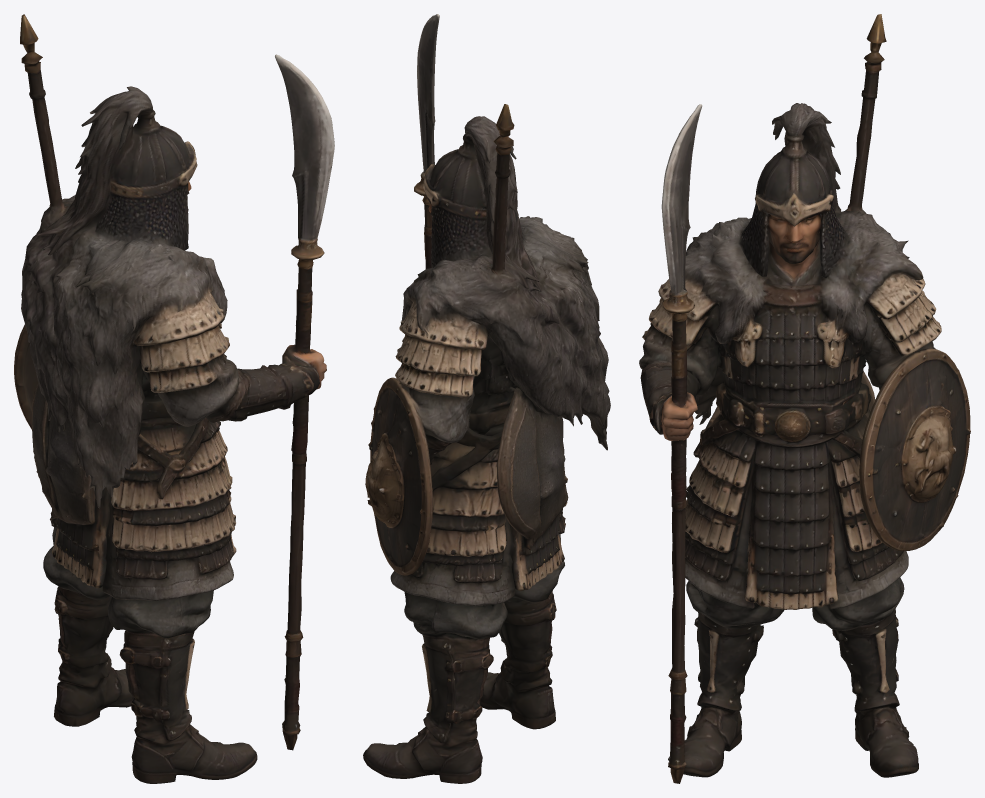
Rendered from vanguard_T8-tripo.glb.
The picture shows the model from 3 angles, left to right: view 1: azimuth 30°, elevation 25°; view 2: azimuth 150°, elevation 25°; view 3: azimuth 270°, elevation 25°; orthographic projection. The views are drawn at different scales.
Parts seen in each view (by area): view 1: tripo_node_7cd6b7e1-1aeb-4111-a3df-36ee11c4e0cb; view 2: tripo_node_7cd6b7e1-1aeb-4111-a3df-36ee11c4e0cb; view 3: tripo_node_7cd6b7e1-1aeb-4111-a3df-36ee11c4e0cb.
Part boxes in pixels (x1,y1,x2,y2): tripo_node_7cd6b7e1-1aeb-4111-a3df-36ee11c4e0cb: (14,14,334,783); tripo_node_7cd6b7e1-1aeb-4111-a3df-36ee11c4e0cb: (363,14,610,783); tripo_node_7cd6b7e1-1aeb-4111-a3df-36ee11c4e0cb: (639,14,970,783).
Size of the model in its own units: 0.3371 by 1 by 0.4266.
1 material, 1 textured.
